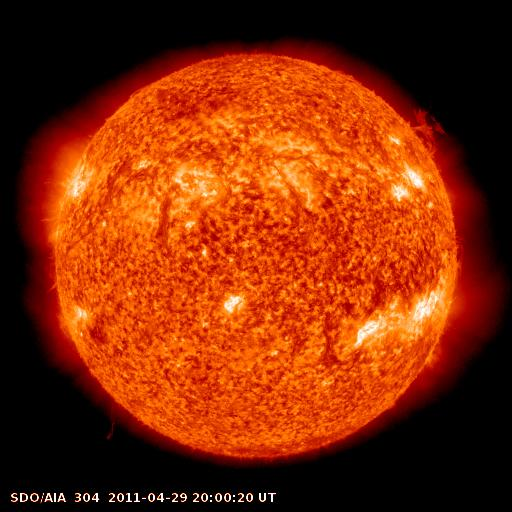prominence: (396, 99, 454, 165), (99, 392, 124, 443)
